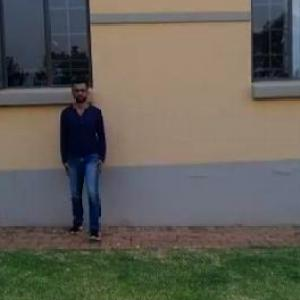follow: (58, 74, 106, 236)
